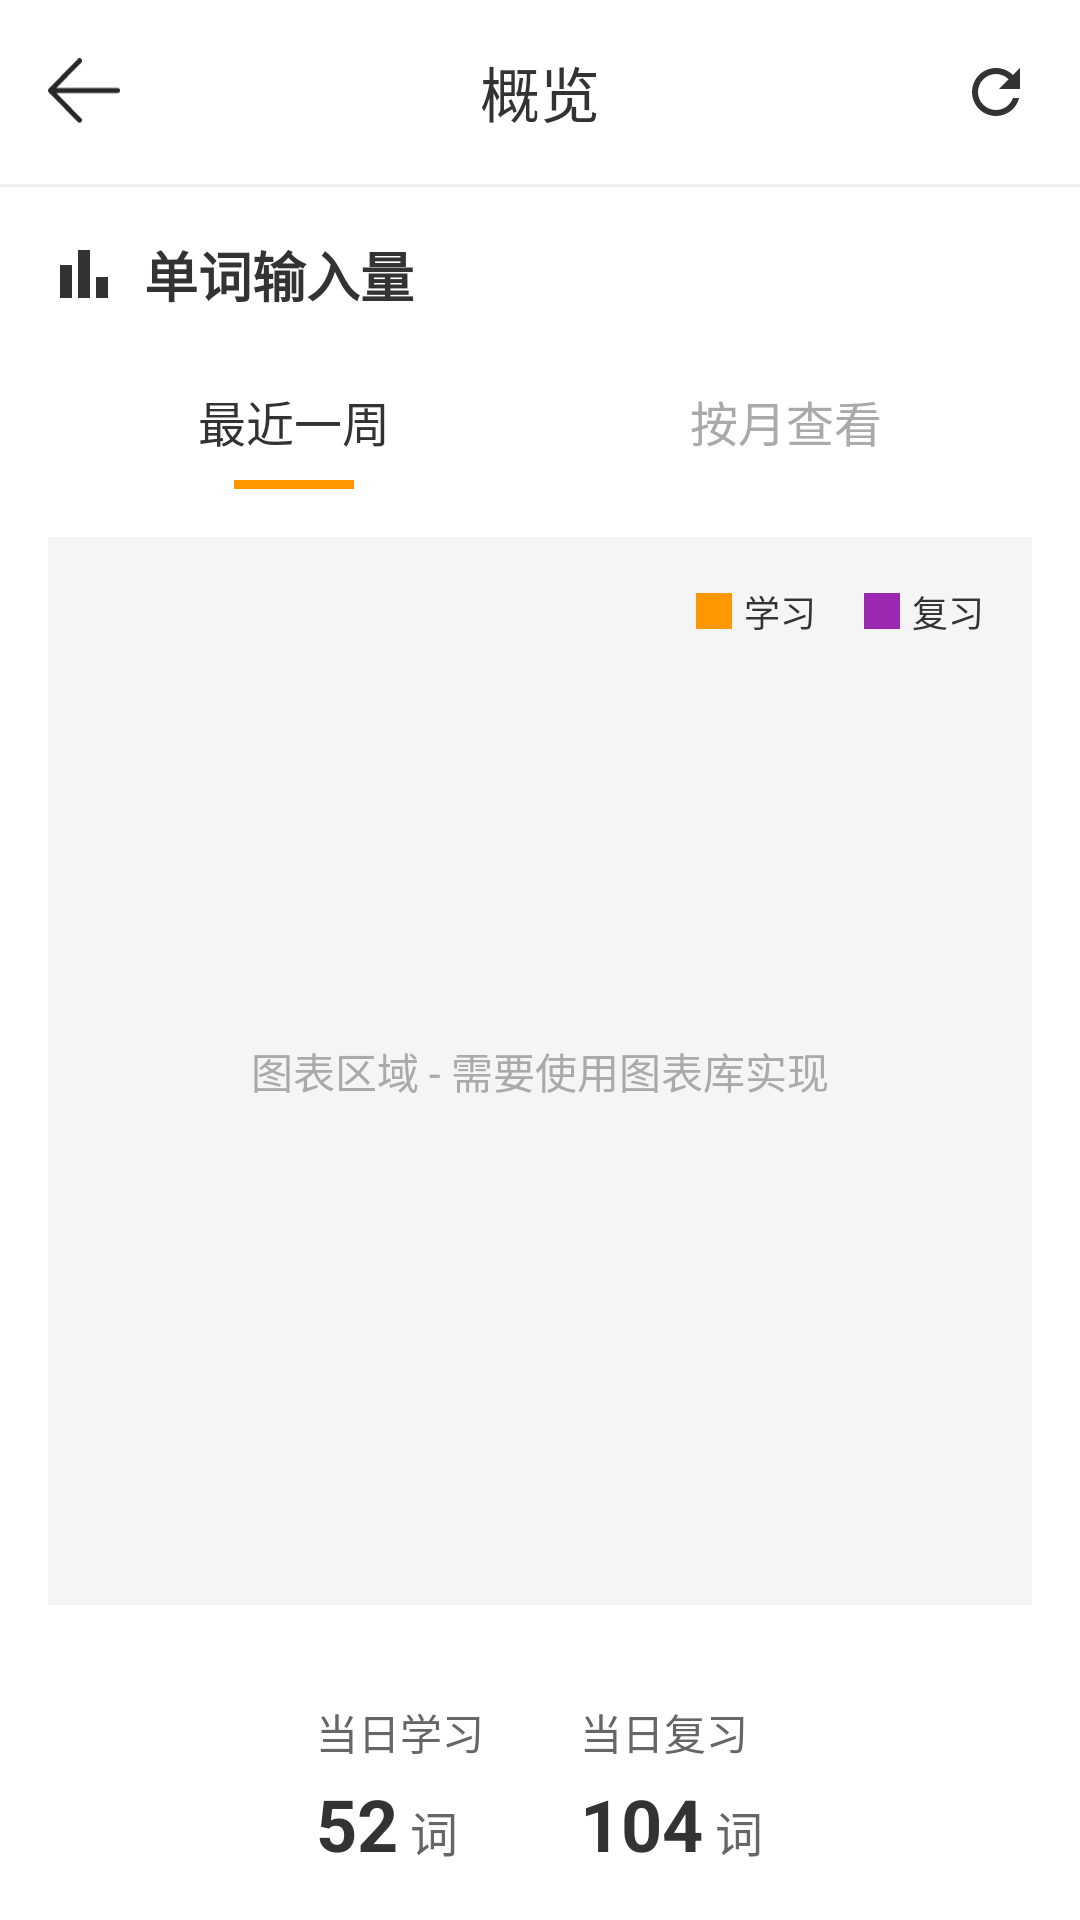

Named icons in this screenshot (1080*1920) and their centers, [x,y]:
back: [84,90]
column: [84,274]
refresh: [996,92]
